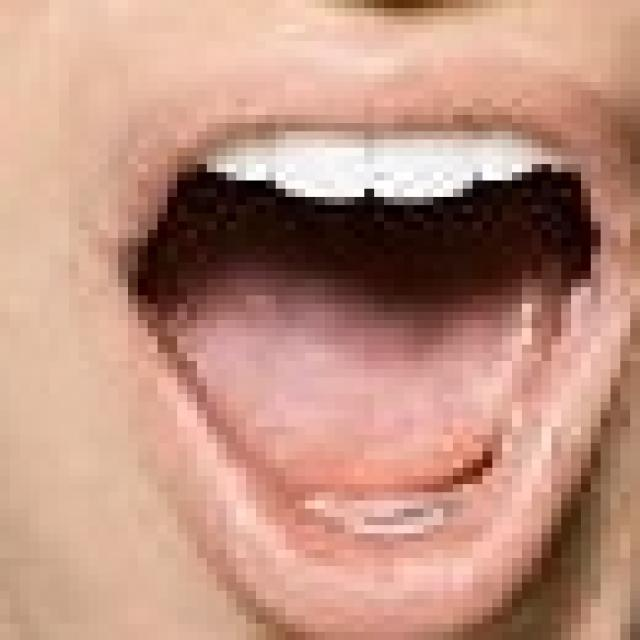open-mouth: (108, 98, 630, 632)
